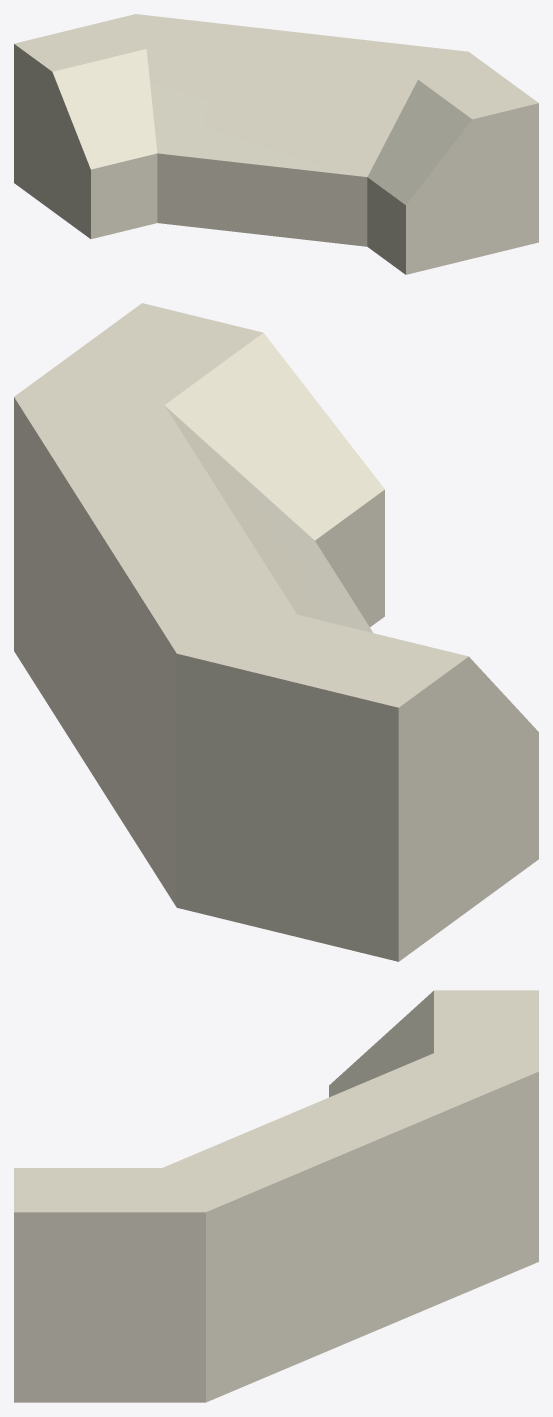
File: Shape_Trim_90_In.glb
3 views of the same model, one above another, from view 1: azimuth 30°, elevation 25°; view 2: azimuth 150°, elevation 25°; view 3: azimuth 270°, elevation 25° (orthographic). The views are drawn at different scales.
Parts seen in each view (by area): view 1: Shape_Trim_90_In; view 2: Shape_Trim_90_In; view 3: Shape_Trim_90_In.
Part boxes in pixels (x1,y1,x2,y2): Shape_Trim_90_In: (14, 14, 538, 274); Shape_Trim_90_In: (14, 303, 538, 961); Shape_Trim_90_In: (14, 990, 538, 1402).
Size of the model in its own units: 0.5 by 0.2 by 0.5.
